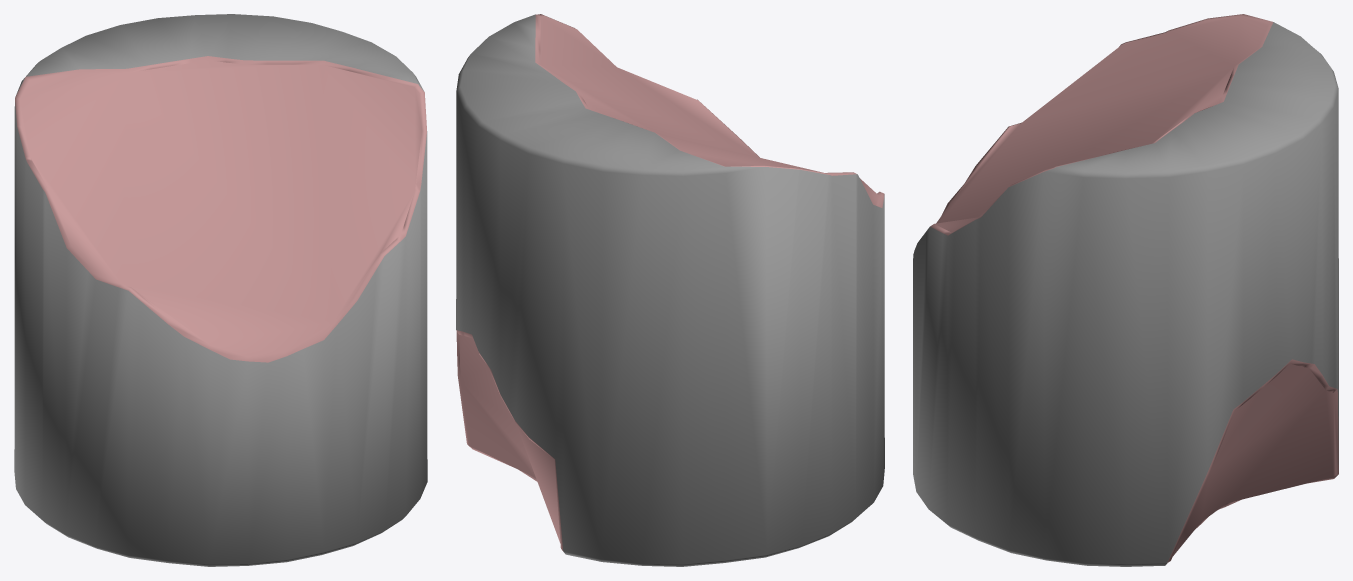
The model's file is RuineBroken3.FBX.
3 views of the same model, side by side, from view 1: azimuth 30°, elevation 25°; view 2: azimuth 150°, elevation 25°; view 3: azimuth 270°, elevation 25° (orthographic). The views are drawn at different scales.
Parts seen in each view (by area): view 1: Ruine3; view 2: Ruine3; view 3: Ruine3.
Boxes of the visible parts, bbox=[...] form: Ruine3: bbox=[14, 14, 427, 566]; Ruine3: bbox=[456, 14, 884, 566]; Ruine3: bbox=[913, 14, 1338, 566].
Bounding box in the file's own units: 107 × 110 × 107.
